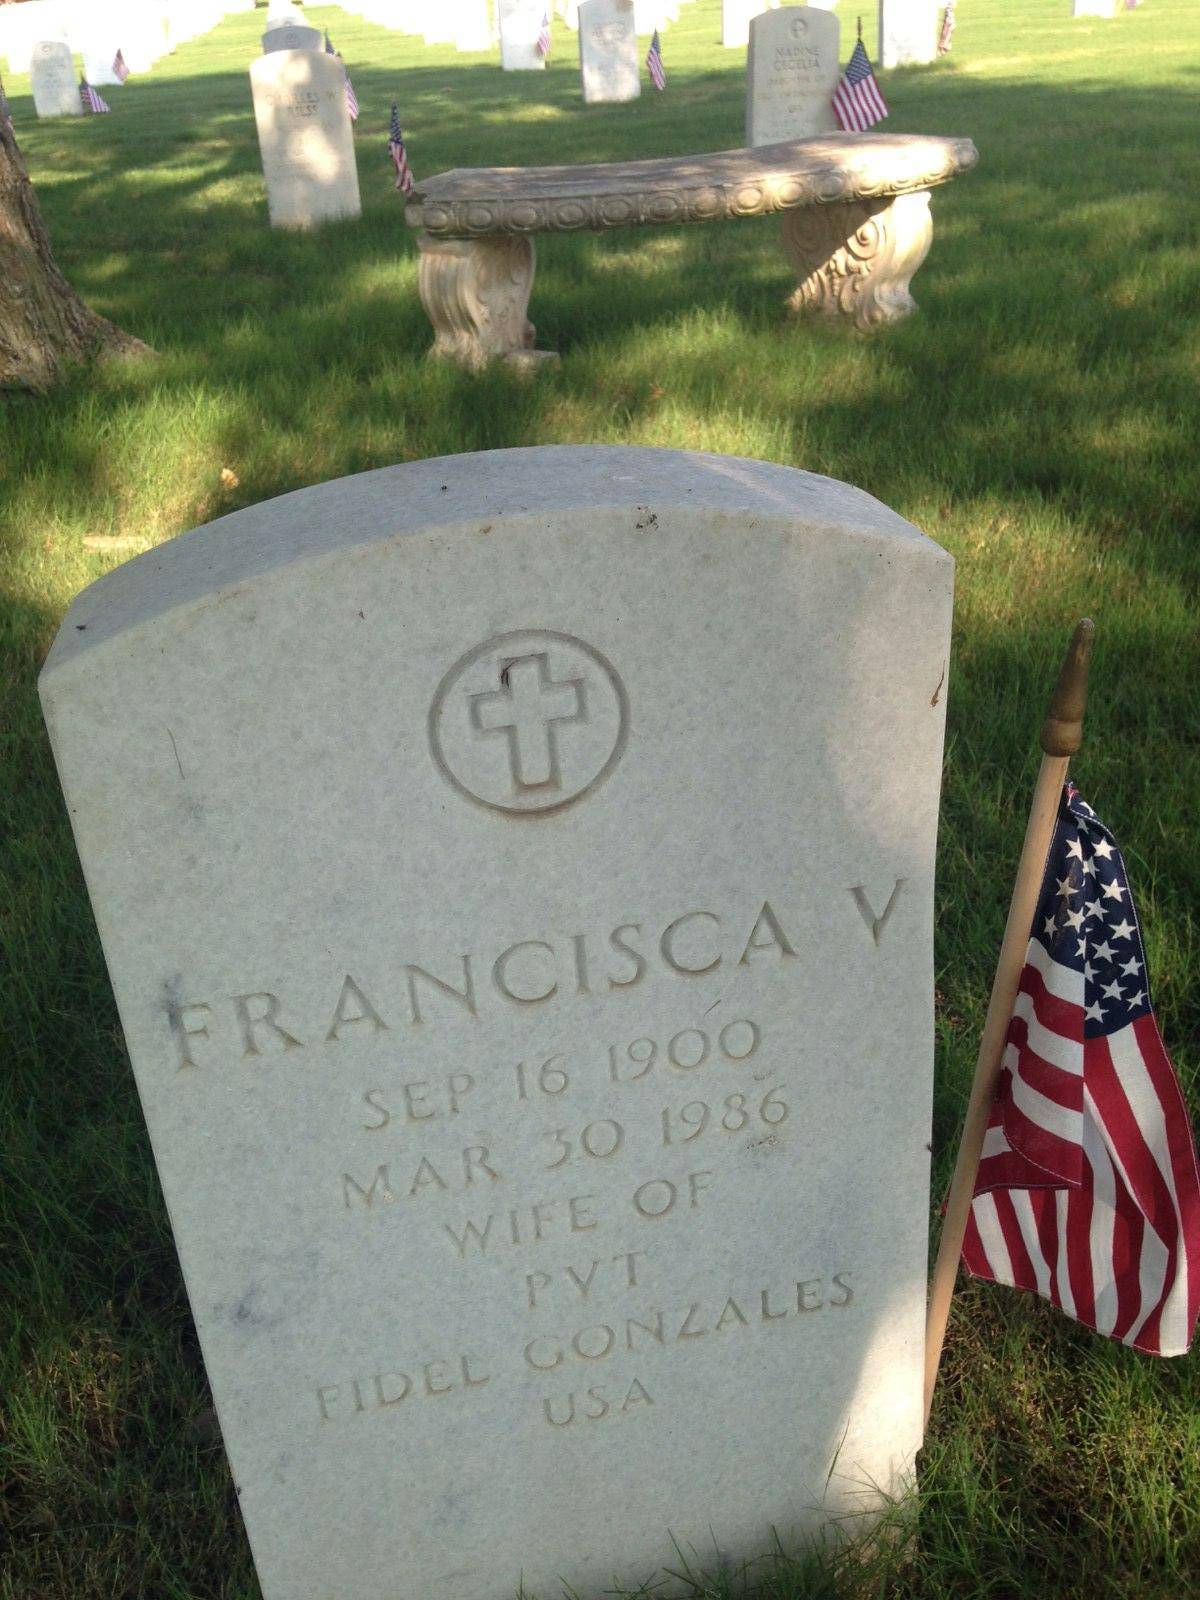military: (0, 425, 982, 1561)
